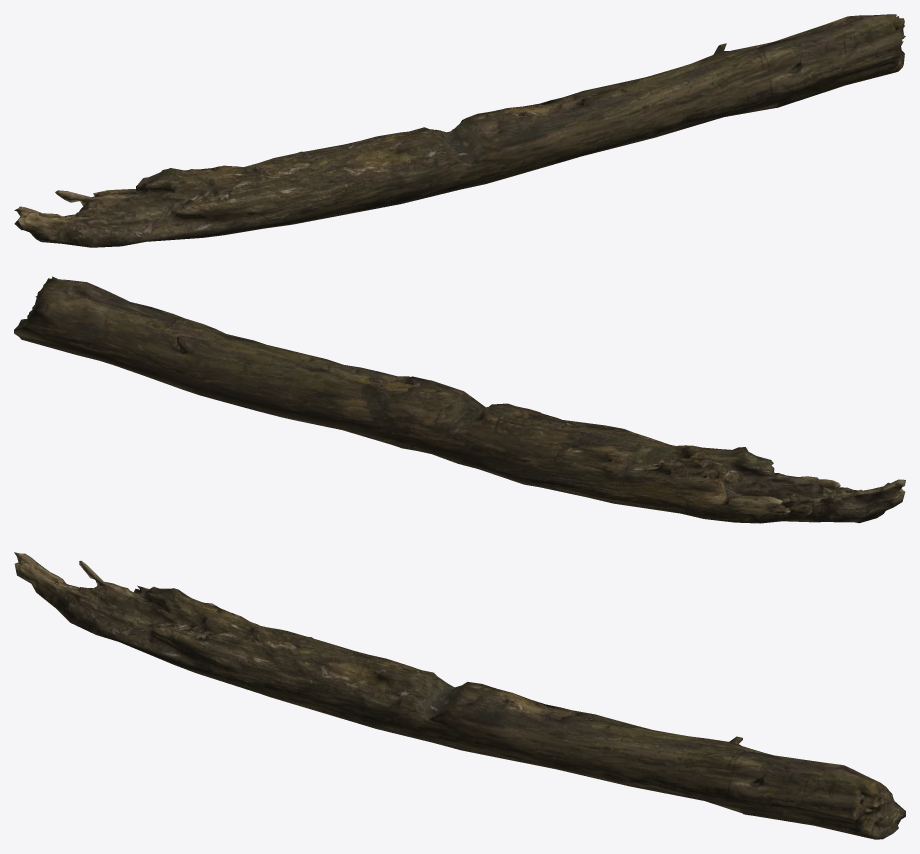
The model's file is dead_tree_trunk.glb.
3 views of the same model, one above another, from view 1: azimuth 30°, elevation 25°; view 2: azimuth 150°, elevation 25°; view 3: azimuth 330°, elevation 25° (orthographic).
Parts seen in each view (by area): view 1: dead_tree_trunk; view 2: dead_tree_trunk; view 3: dead_tree_trunk.
Boxes of the visible parts, box(x1,y1,x2,y2) form: dead_tree_trunk: box(14, 14, 905, 247); dead_tree_trunk: box(14, 276, 905, 523); dead_tree_trunk: box(14, 552, 905, 839).
Bounding box in the file's own units: 3.05 × 0.2869 × 0.2763.
1 material, 1 textured.
